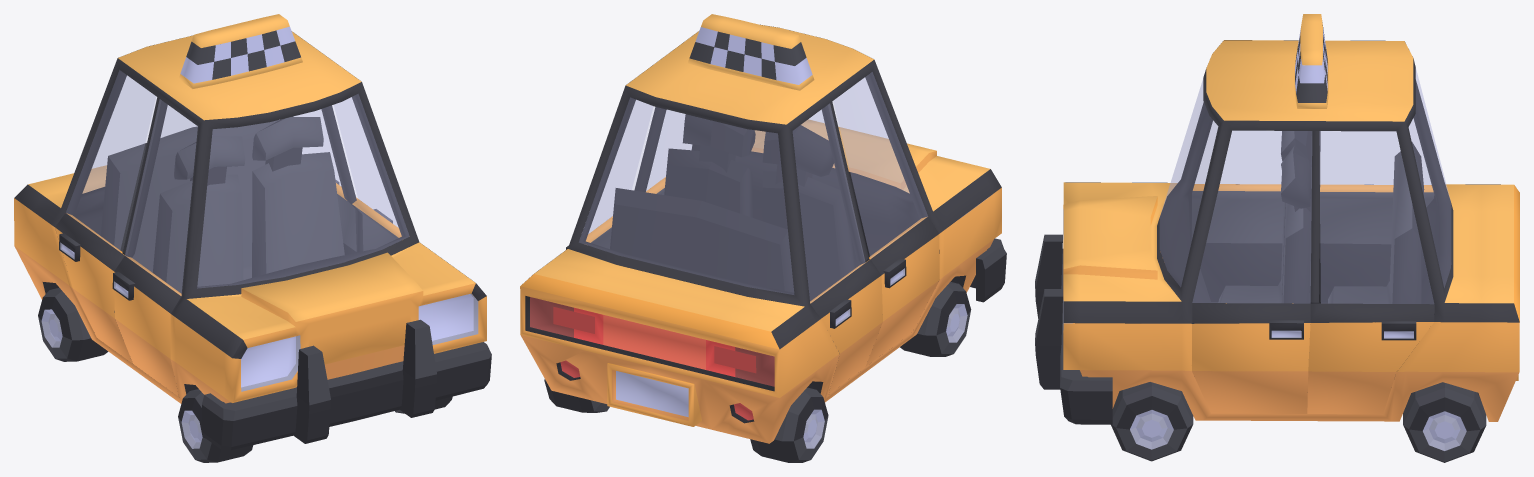
File: car-taxi.glb
The picture shows the model from 3 angles, left to right: view 1: azimuth 30°, elevation 25°; view 2: azimuth 150°, elevation 25°; view 3: azimuth 270°, elevation 25°; orthographic projection. The views are drawn at different scales.
Visible parts, largest first — view 1: Car01_2_Taxi, Car01_2_AdF.002, Car01_2_DR1.002, Car01_2_DR2.002, Car01_2_Taxi_AdT, Car01_2_DL1.002, Car01_2_WhBR.002, Car01_2_WhFR.002, Car01_2_DL2.002; view 2: Car01_2_Taxi, Car01_2_DR1.002, Car01_2_DR2.002, Car01_2_Taxi_AdT, Car01_2_WhBR.002, Car01_2_DL2.002, Car01_2_WhFR.002, Car01_2_DL1.002, Car01_2_AdF.002, Car01_2_WhBL.002; view 3: Car01_2_Taxi, Car01_2_DL1.002, Car01_2_DL2.002, Car01_2_DR2.002, Car01_2_DR1.002, Car01_2_AdF.002, Car01_2_WhBL.002, Car01_2_WhFL.002, Car01_2_Taxi_AdT.
Boxes of the visible parts, x1,y1,x2,y2 form: Car01_2_Taxi: (14,31,486,403); Car01_2_AdF.002: (202,319,491,450); Car01_2_DR1.002: (112,99,197,396); Car01_2_DR2.002: (55,70,155,363); Car01_2_Taxi_AdT: (178,14,302,88); Car01_2_DL1.002: (334,97,404,253); Car01_2_WhBR.002: (38,287,108,361); Car01_2_WhFR.002: (178,389,253,462); Car01_2_DL2.002: (294,110,357,254); Car01_2_Taxi: (520,24,1001,443); Car01_2_DR1.002: (834,72,939,366); Car01_2_DR2.002: (793,104,882,394); Car01_2_Taxi_AdT: (688,14,814,90); Car01_2_WhBR.002: (750,387,828,462); Car01_2_DL2.002: (566,100,652,251); Car01_2_WhFR.002: (900,282,971,356); Car01_2_DL1.002: (646,110,691,194); Car01_2_AdF.002: (970,238,1006,302); Car01_2_WhBL.002: (544,379,609,412); Car01_2_Taxi: (1063,40,1519,421); Car01_2_DL1.002: (1191,131,1311,413); Car01_2_DL2.002: (1307,131,1434,414); Car01_2_DR2.002: (1319,119,1434,302); Car01_2_DR1.002: (1192,121,1283,301); Car01_2_AdF.002: (1035,234,1112,424); Car01_2_WhBL.002: (1403,382,1486,462); Car01_2_WhFL.002: (1111,382,1193,461); Car01_2_Taxi_AdT: (1294,14,1328,108).
Size of the model in its own units: 0.8201 by 1.03 by 1.23.
Materials: 5 (5 with a texture image).
